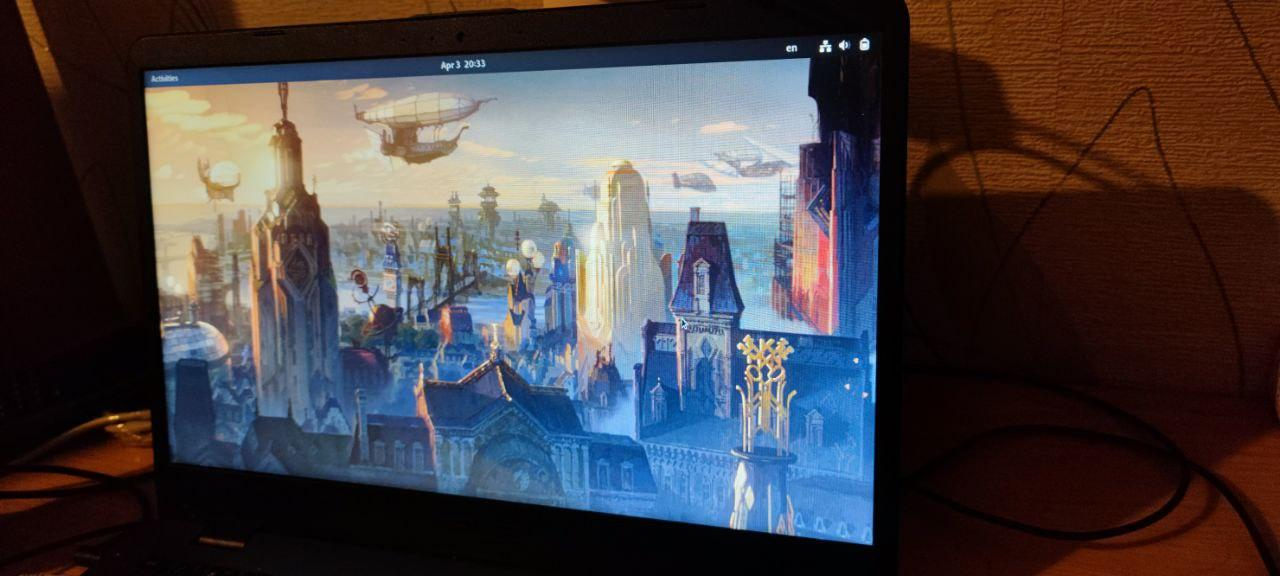monitor: (125, 0, 915, 576)
